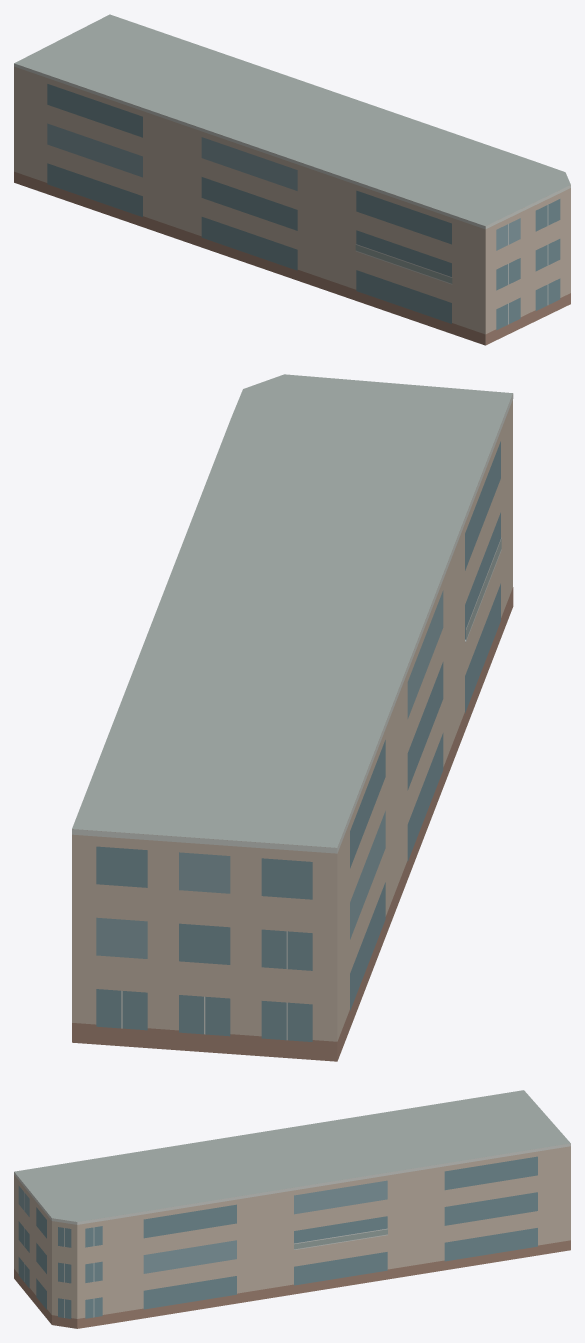
Rendered from survey-upis-32639352.glb.
The picture shows the model from 3 angles, top to bottom: view 1: azimuth 30°, elevation 25°; view 2: azimuth 150°, elevation 25°; view 3: azimuth 270°, elevation 25°; orthographic projection. The views are drawn at different scales.
Parts seen in each view (by area): view 1: survey-upis-32639352.tmp; view 2: survey-upis-32639352.tmp; view 3: survey-upis-32639352.tmp.
Boxes of the visible parts, x1,y1,x2,y2 form: survey-upis-32639352.tmp: [14, 14, 570, 345]; survey-upis-32639352.tmp: [72, 374, 513, 1061]; survey-upis-32639352.tmp: [14, 1090, 570, 1328].
Bounding box in the file's own units: 24.25 × 9.15 × 43.23.
